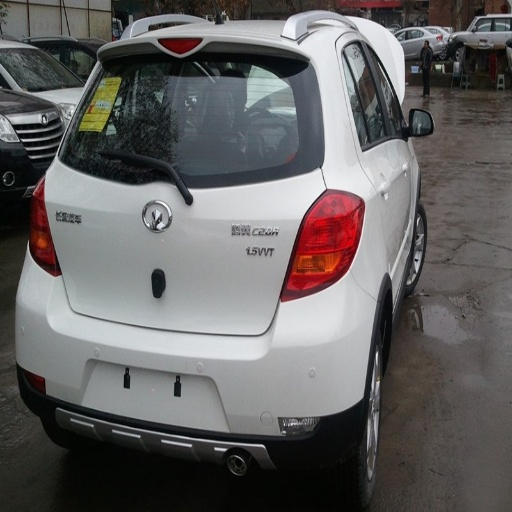back_bumper: (19, 258, 376, 464)
back_left_light: (30, 187, 61, 275)
back_right_door: (339, 35, 389, 217)
tailgate: (207, 170, 315, 328)
trunk: (48, 135, 292, 335)
